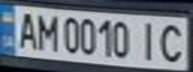0: (57, 13, 81, 55), (112, 17, 133, 60), (78, 16, 96, 56)
1: (93, 16, 115, 57)
A: (12, 8, 39, 50)
C: (154, 20, 190, 64)
I: (133, 19, 163, 62)
M: (33, 10, 60, 52)
